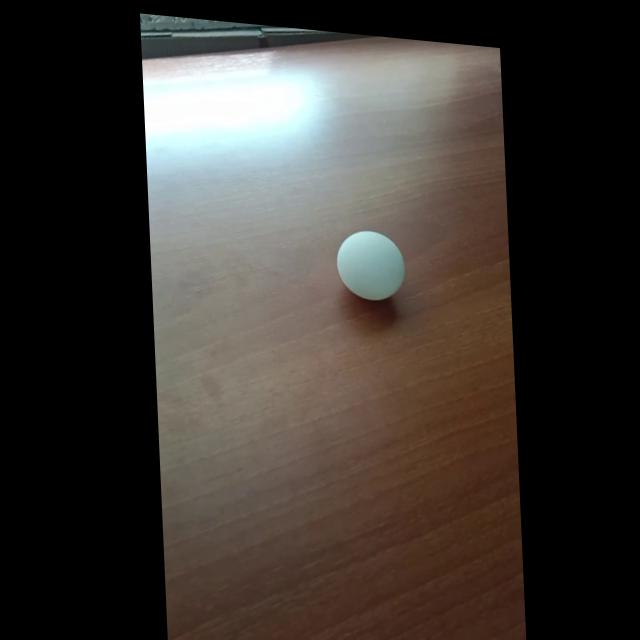white ball: (334, 226, 406, 303)
